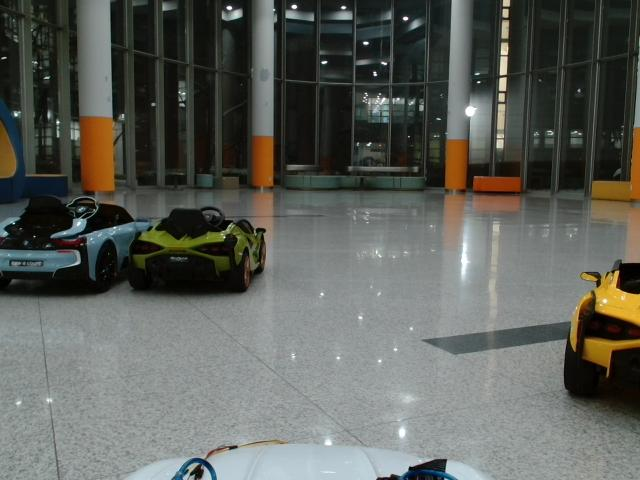car: (1, 194, 155, 293), (128, 206, 268, 292), (565, 259, 640, 394)
